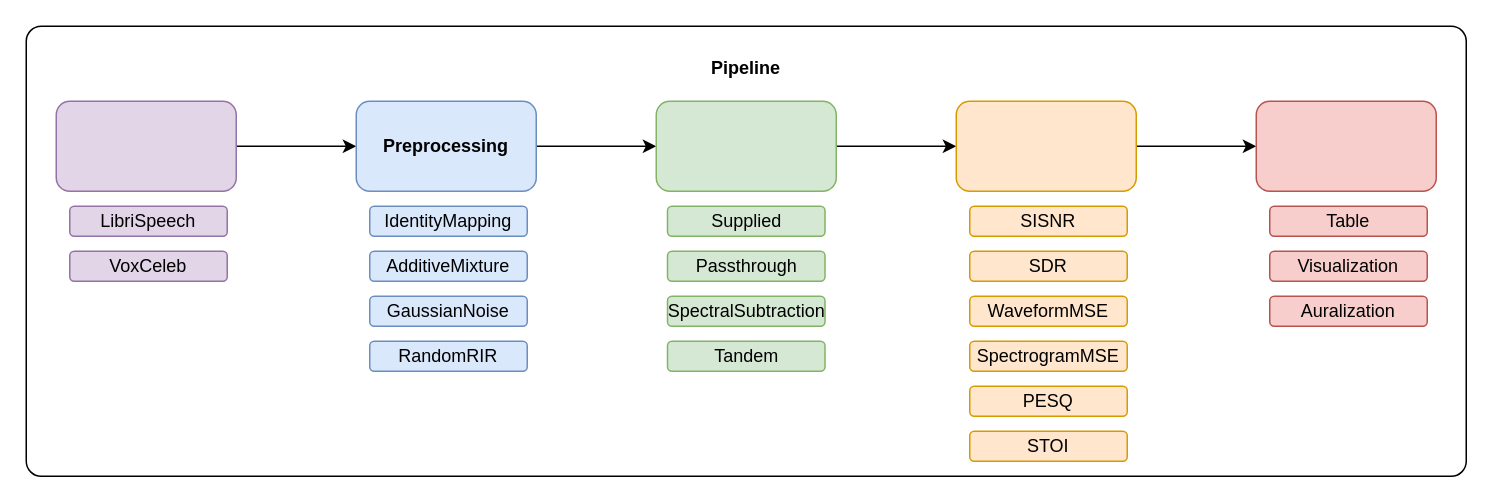
The diagram is 1493 pixels wide and 503 high, and some of its shapes have lost their labels. Each missing label, with the box of its shape:
Dataset: (55, 100, 236, 191)
Metric: (955, 100, 1136, 191)
Model: (655, 100, 836, 191)
Report: (1255, 100, 1436, 191)
